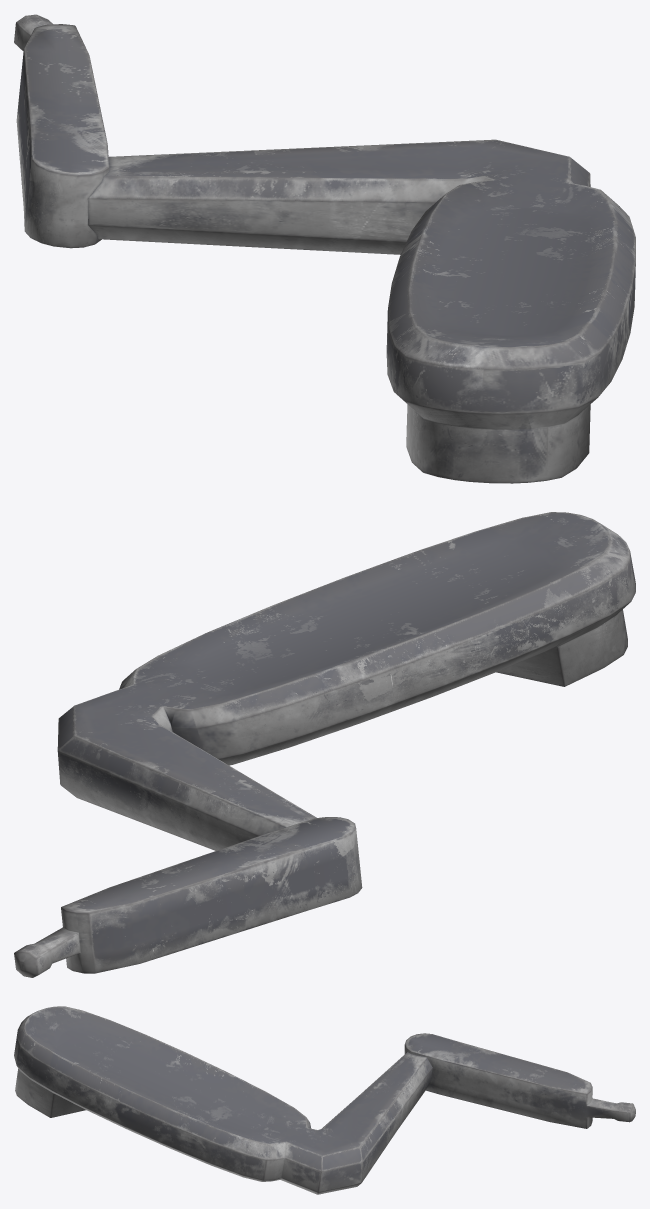
The model's file is bot_part_02.gltf.
3 renders of one model, top to bottom at view 1: azimuth 30°, elevation 25°; view 2: azimuth 150°, elevation 25°; view 3: azimuth 270°, elevation 25°, orthographic. The views are drawn at different scales.
Parts seen in each view (by area): view 1: bot_part_02; view 2: bot_part_02; view 3: bot_part_02.
Boxes of the visible parts, x1,y1,x2,y2 form: bot_part_02: [14, 14, 635, 483]; bot_part_02: [14, 512, 635, 977]; bot_part_02: [14, 1006, 635, 1194].
Size of the model in its own units: 0.7255 by 0.2682 by 1.64.
1 material, 1 textured.
